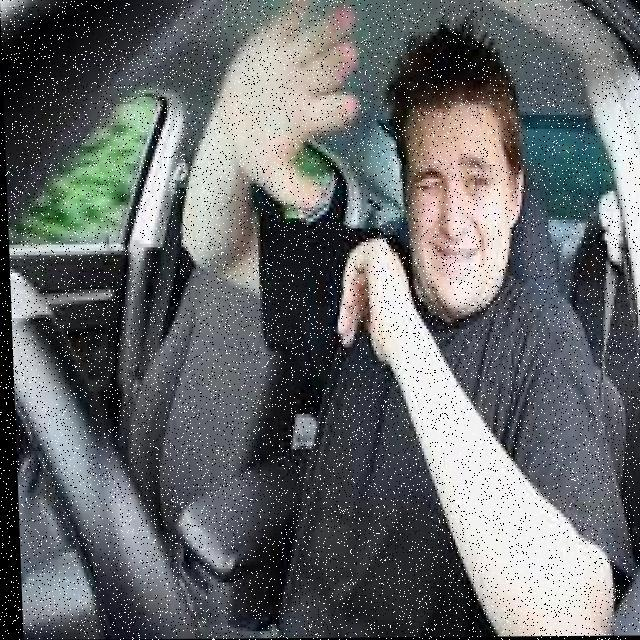noSeatbelt: (278, 227, 578, 628)
